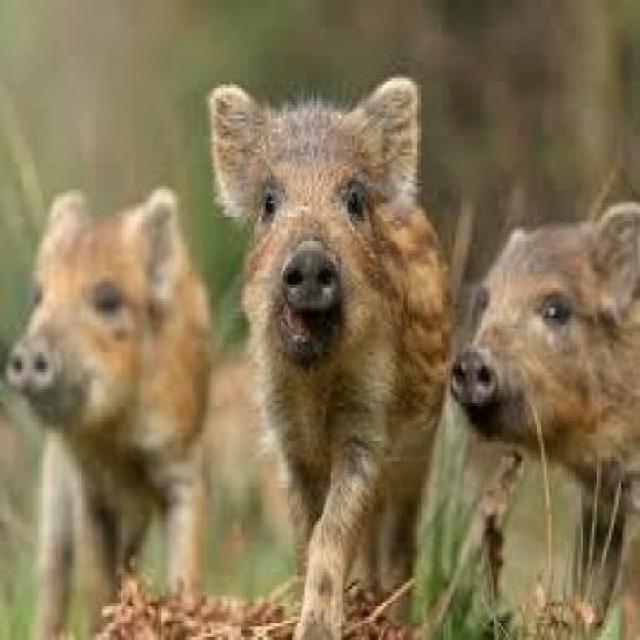wildboar: (210, 66, 462, 640), (0, 174, 229, 640), (444, 194, 640, 640)
